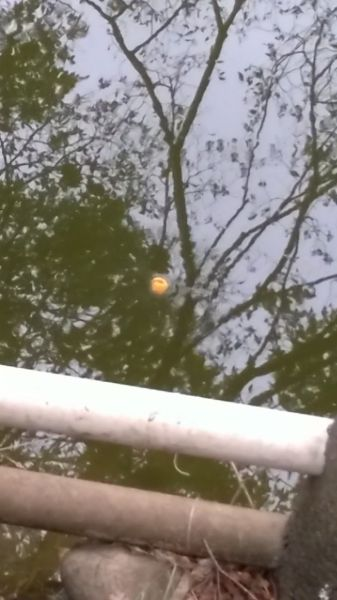eggs: (142, 273, 174, 297)
